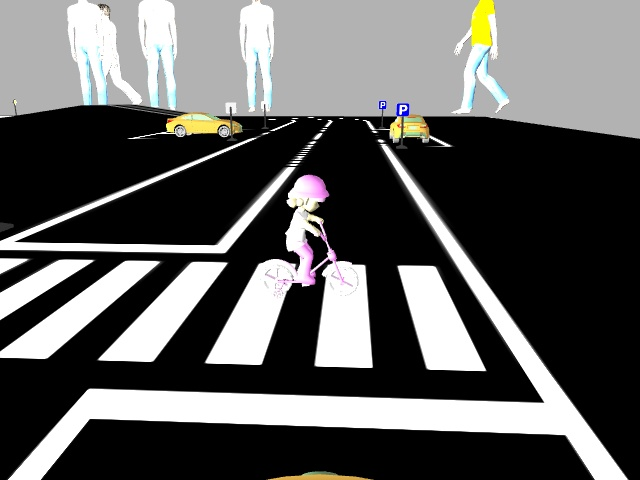Parking: (394, 101, 410, 118), (377, 99, 387, 109)
Pedestrian: (251, 173, 364, 297)
